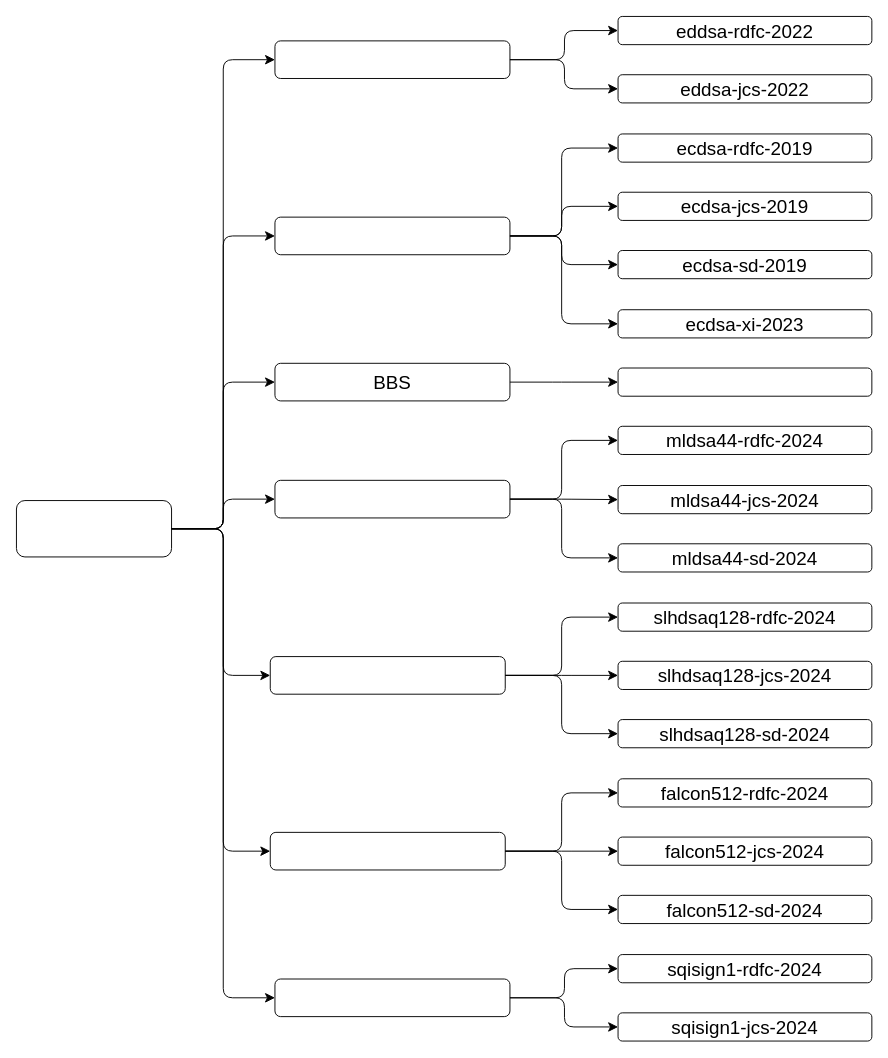
Some shapes in this 888 by 1058 pixel diagram are drawn without their labels. Here are the shapes that lost their labels. From the top down, the centre of each, then its label:
the point at 392,59: EdDSA
the point at 392,235: ECDSA
the point at 744,381: bbs-2023
the point at 392,498: ML-DSA-44
the point at 94,528: Cryptosuites
the point at 387,675: SLH-DSA-SHA2-128s
the point at 387,850: Falcon 512
the point at 392,997: SQIsign-1
